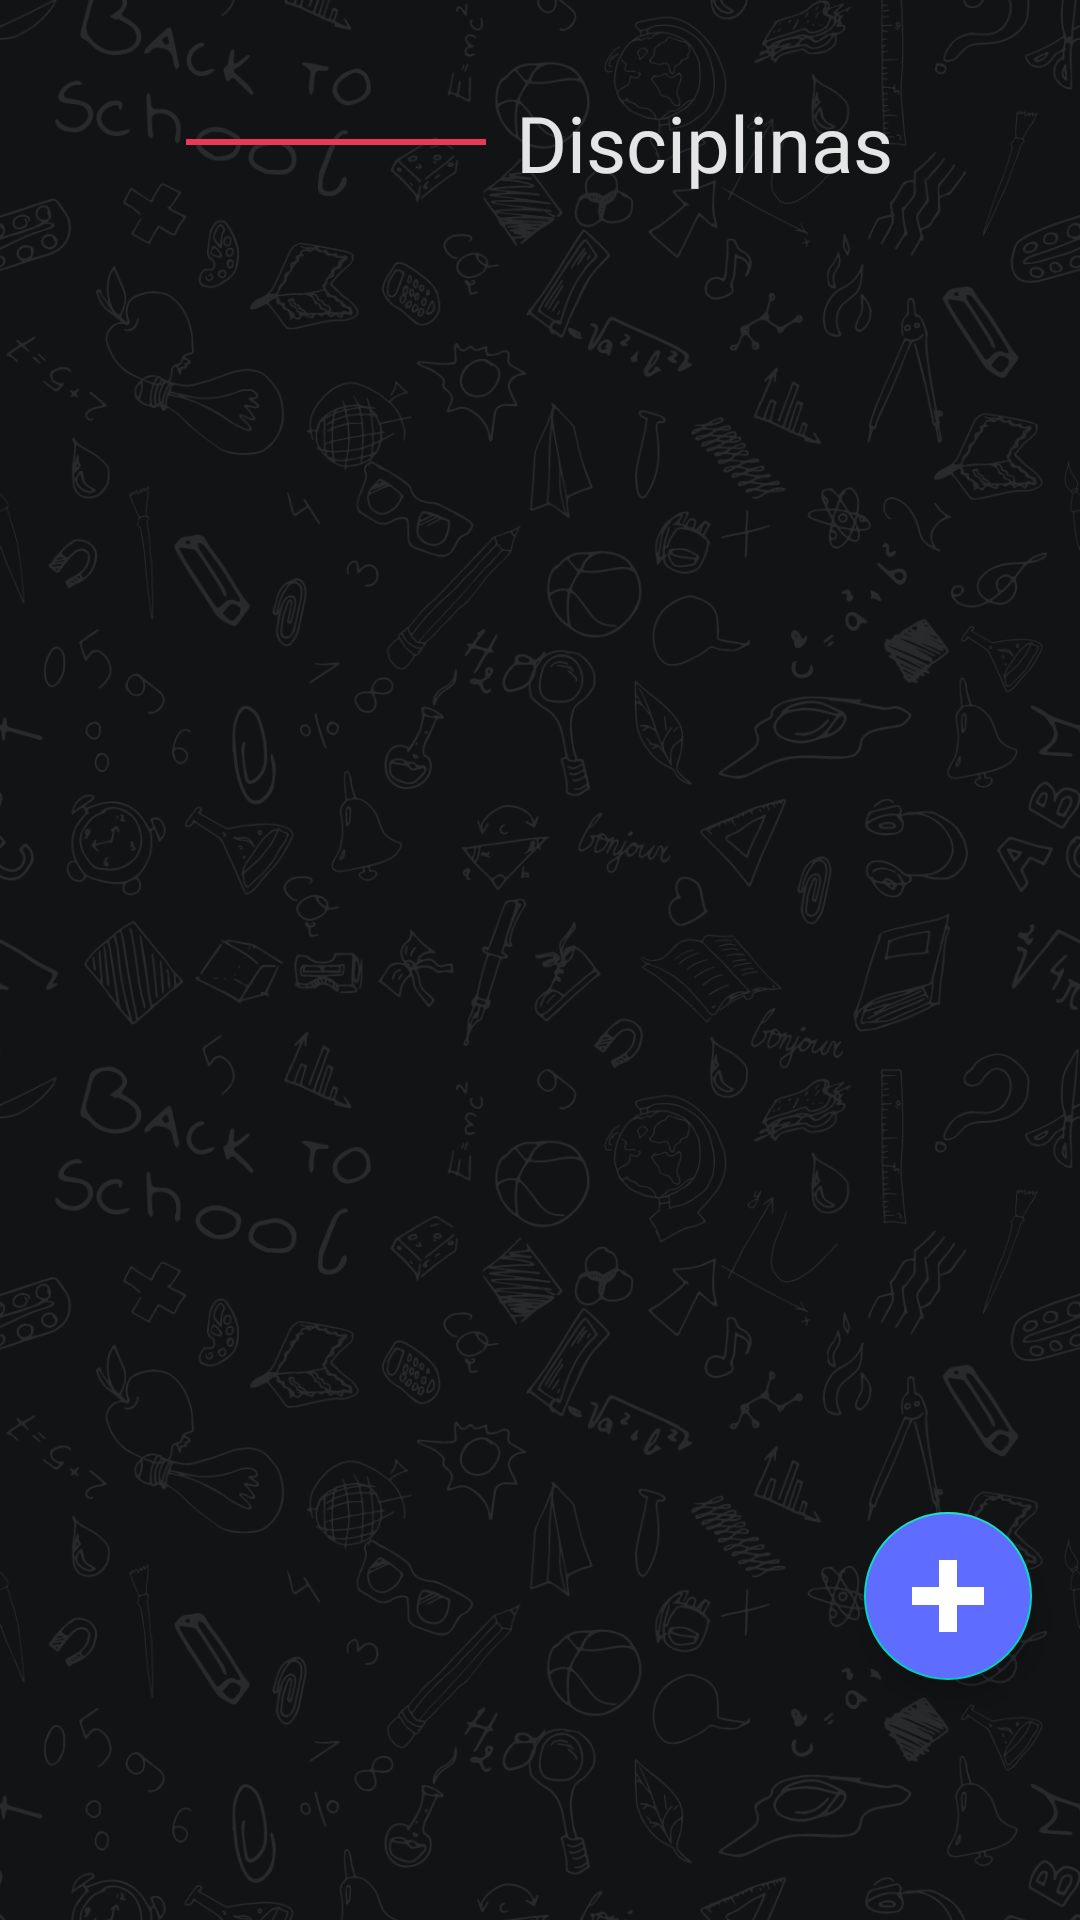

Named icons in this screenshot (1080 x 1920) and their bounding boxes, (x1,y1,x2,y2):
open plus: (864,1512,1032,1680)
